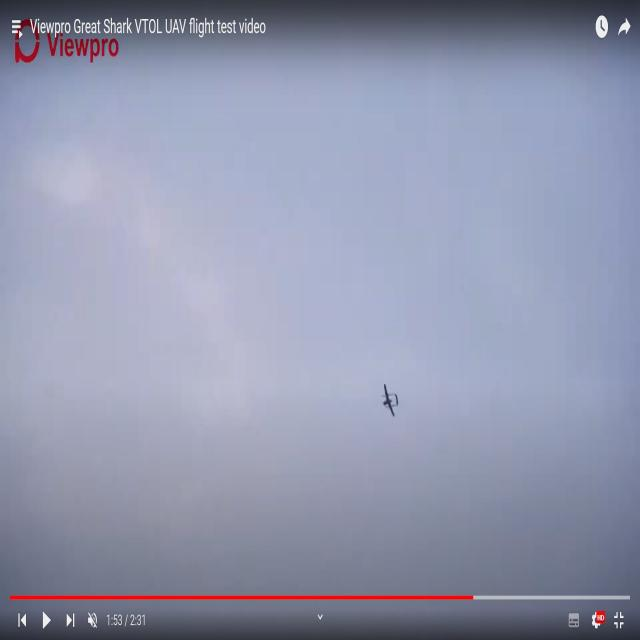iha: (382, 384, 398, 416)
